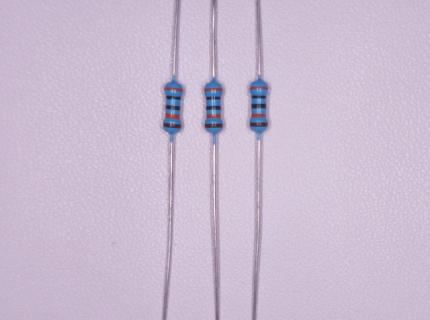Black band: (166, 105, 181, 110), (166, 96, 181, 100), (206, 96, 221, 100), (206, 106, 221, 110), (252, 95, 266, 99), (252, 104, 266, 108)
Brown band: (163, 123, 182, 129), (205, 123, 223, 128), (249, 122, 267, 127)
Orange band: (164, 87, 183, 92), (165, 113, 180, 119), (204, 88, 223, 92), (250, 86, 268, 90), (251, 113, 266, 117), (206, 114, 220, 118)
